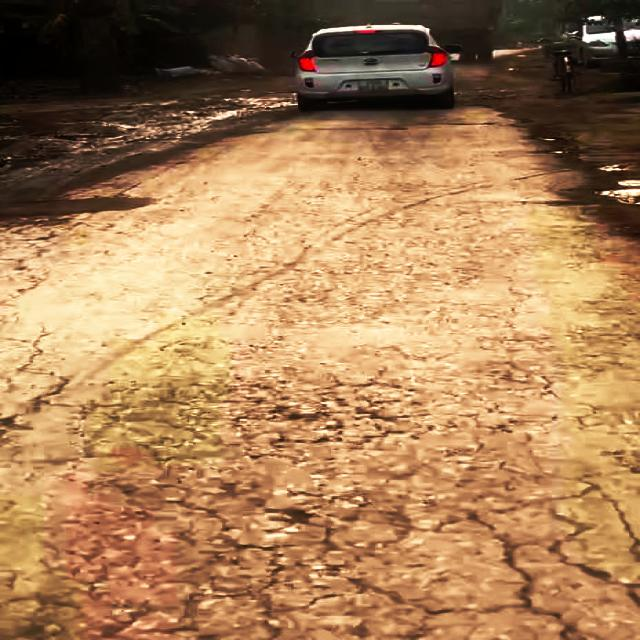pothole: (0, 192, 171, 224)
